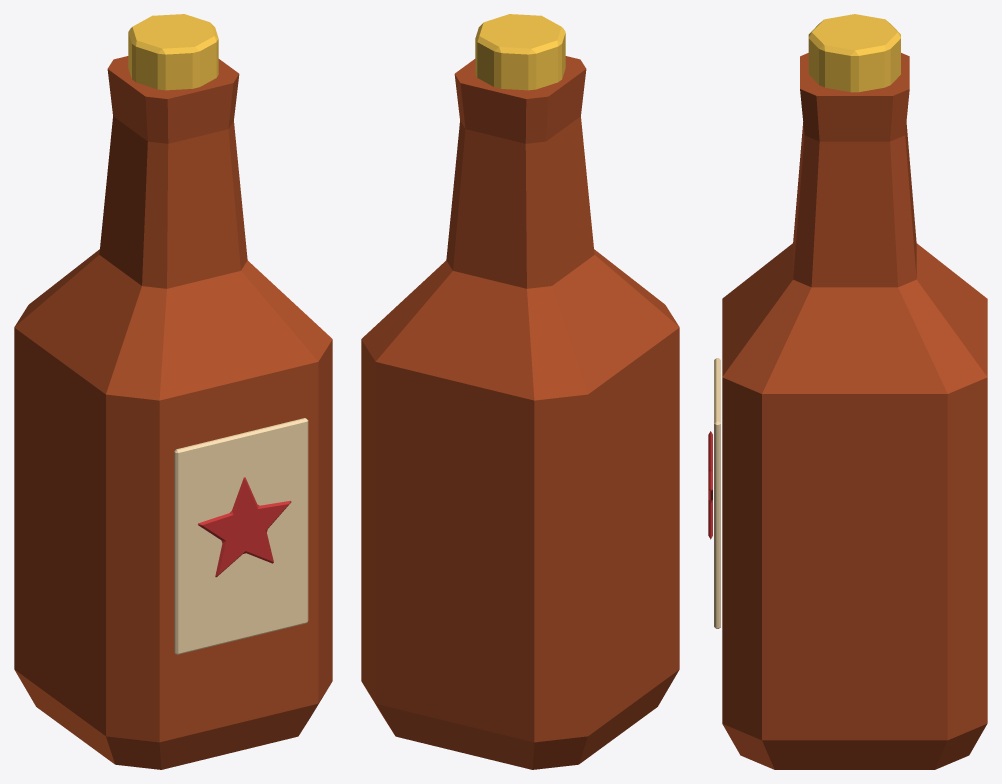
The model's file is ruou.fbx.
The picture shows the model from 3 angles, left to right: view 1: azimuth 30°, elevation 25°; view 2: azimuth 150°, elevation 25°; view 3: azimuth 270°, elevation 25°; orthographic projection.
Visible parts, largest first — view 1: GEO-Amber_Bottle-bottle_cork; view 2: GEO-Amber_Bottle-bottle_cork; view 3: GEO-Amber_Bottle-bottle_cork.
Part boxes in pixels (box(x1,y1,x2,y2)): GEO-Amber_Bottle-bottle_cork: box(14, 14, 332, 769); GEO-Amber_Bottle-bottle_cork: box(361, 14, 679, 769); GEO-Amber_Bottle-bottle_cork: box(708, 14, 987, 769).
Bounding box in the file's own units: 12.18 × 34.91 × 12.81.
